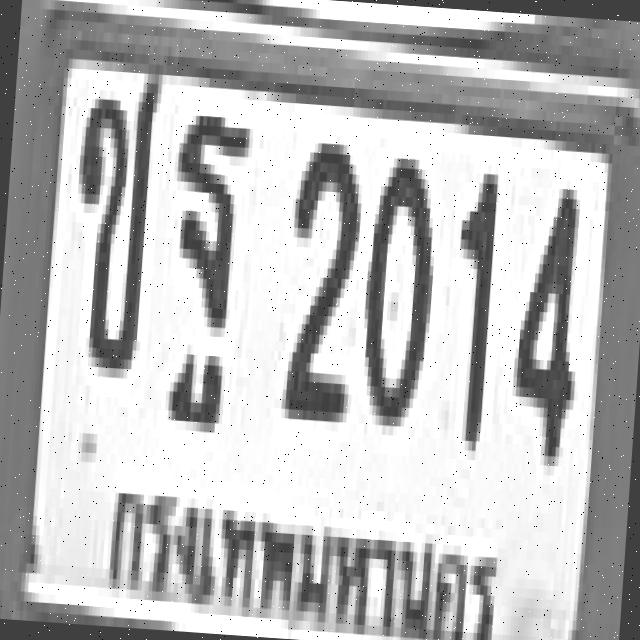0: (353, 146, 438, 418)
1: (443, 162, 495, 442)
19ChorChang: (62, 59, 160, 370)
2: (278, 132, 362, 412)
25ThorThan: (157, 104, 249, 385)
4: (508, 176, 582, 456)
Bangkok: (93, 469, 512, 640)
